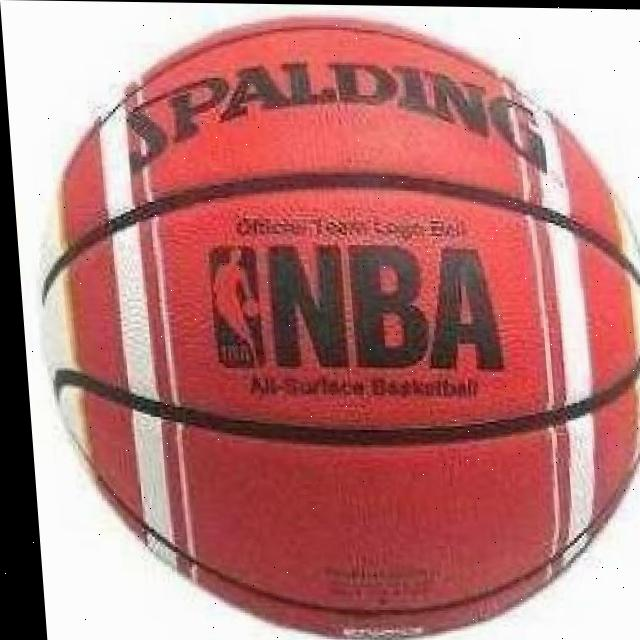Basketball: (21, 11, 640, 640)
